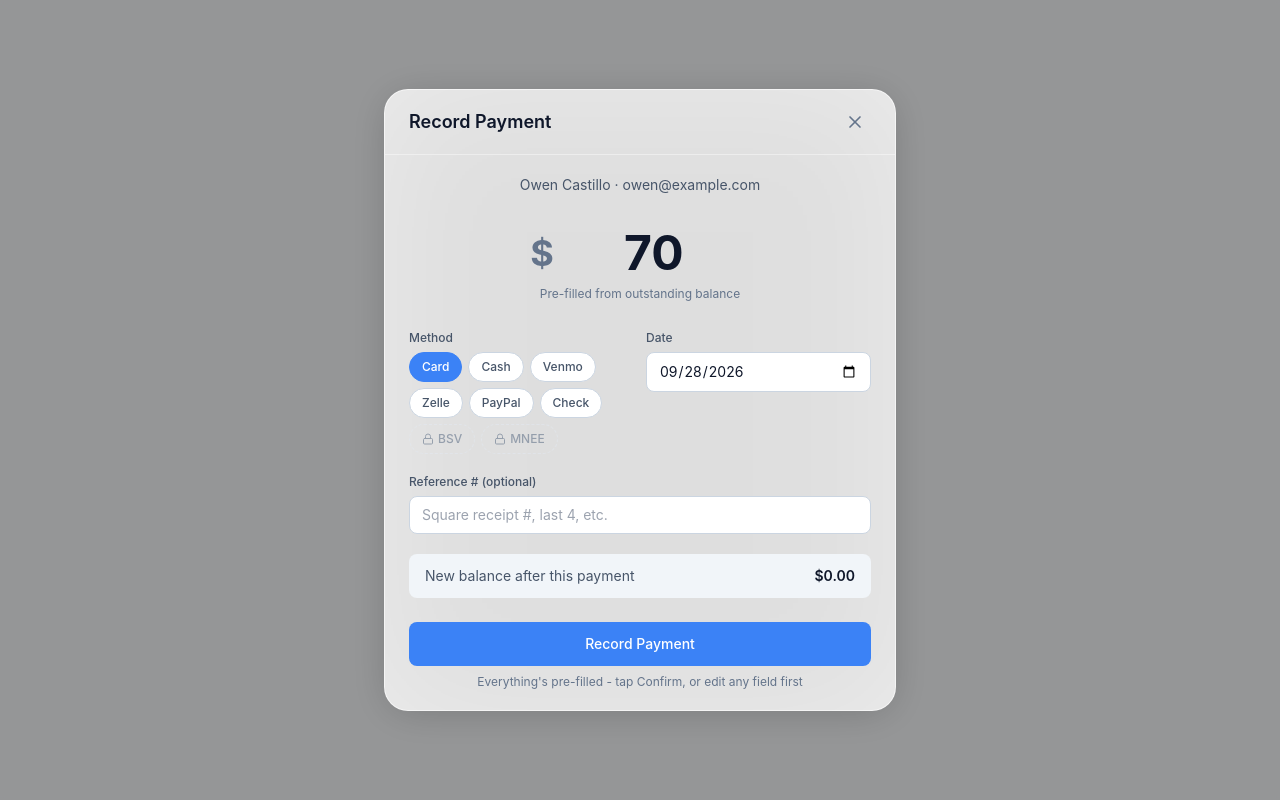
Test: PaymentModal - live running-balance preview (item 4) › shows the new balance updating live as amount changes
Expected: the text "$0.00" is shown, [814,566,855,586]
Replace the text in the number field with placeholder "0.00" with "20": (654, 252) [558,223,750,282]
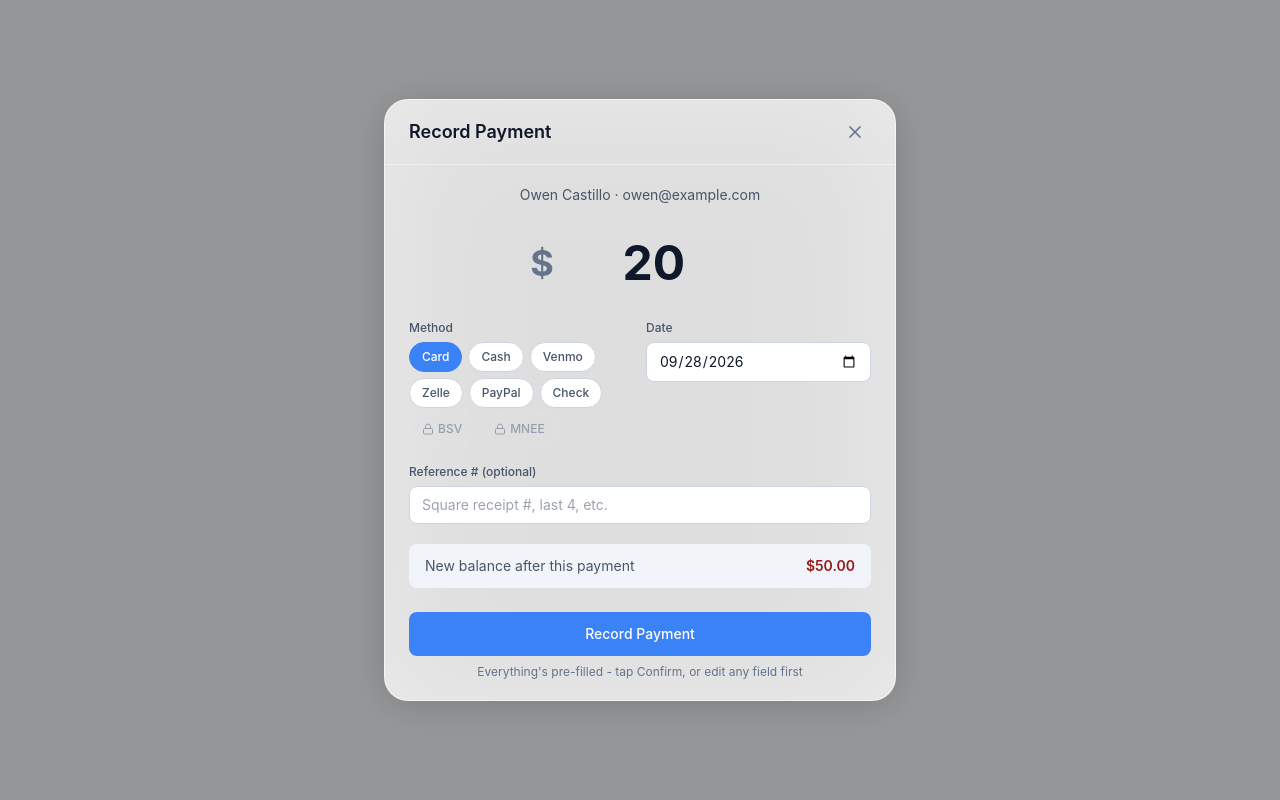
Expected: the text "$50.00" is shown, [806,556,855,576]
